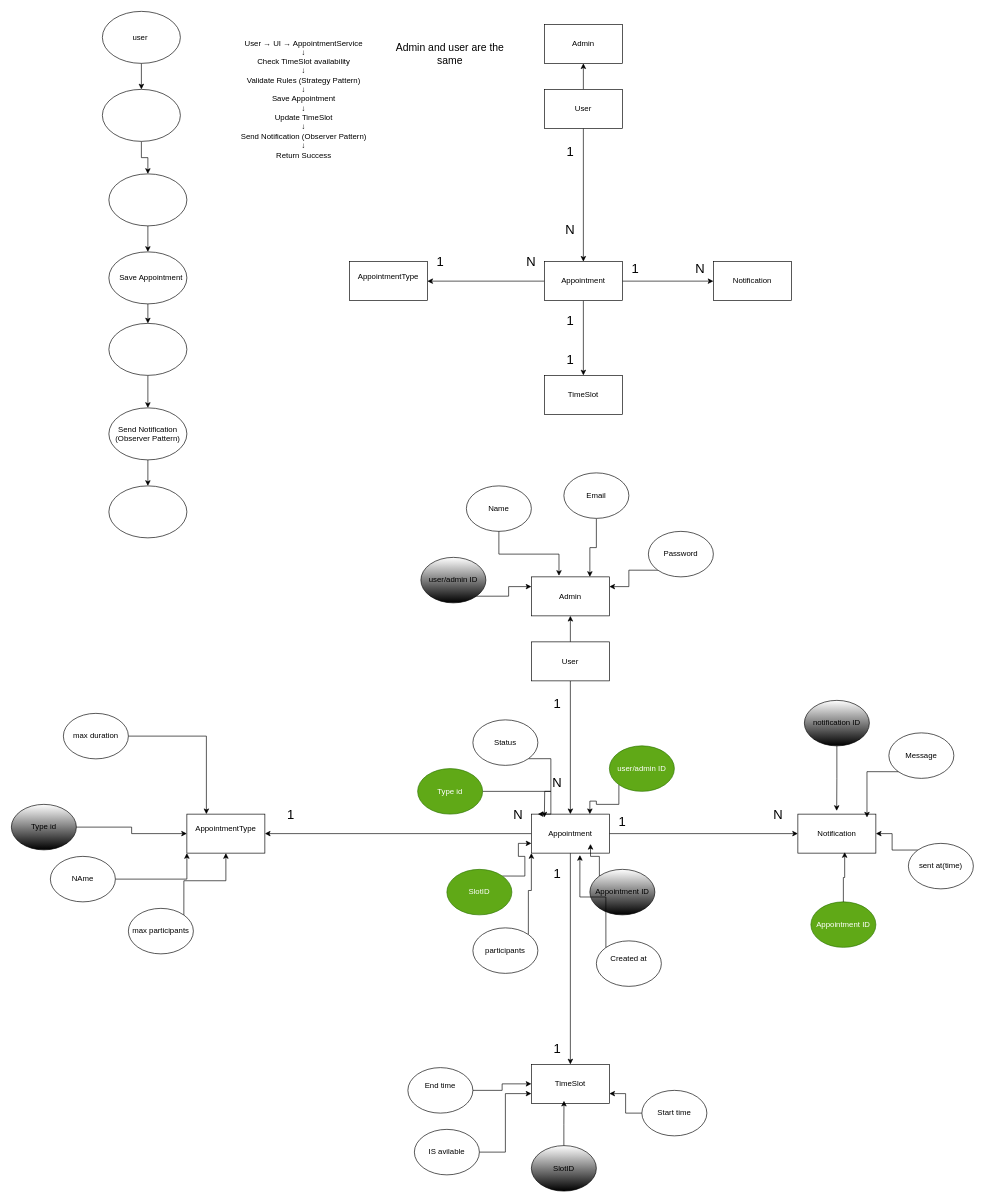
This 985x1203 diagram has some shape labels left out. Each missing label, with the centre of its shape:
checkes time slot availability: the point at 147,199
Return Success: the point at 147,511
ui appointments: the point at 141,115
Update TimeSlot: the point at 147,349
